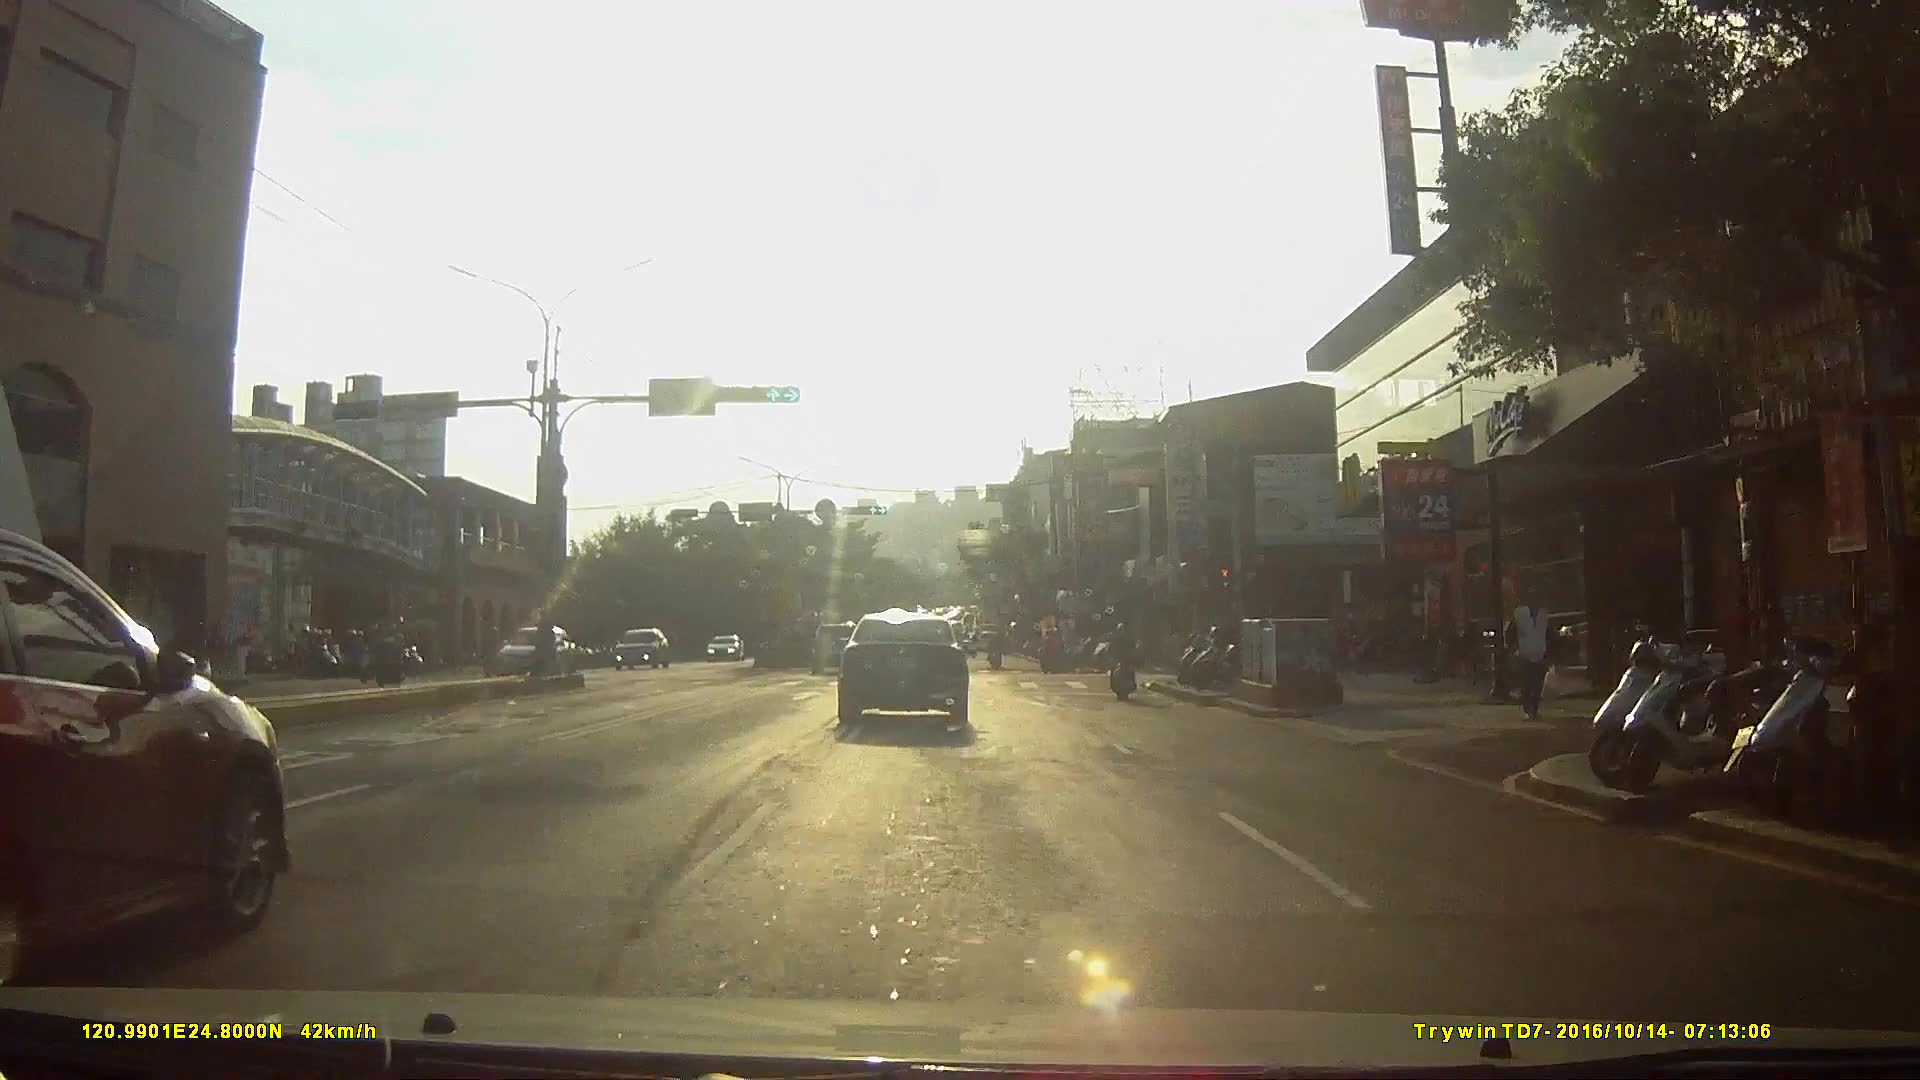pedestrian: (1501, 591, 1554, 729)
rider: (158, 625, 212, 699), (365, 617, 414, 695), (1107, 619, 1141, 703), (341, 630, 385, 683), (1038, 629, 1067, 677), (986, 636, 1006, 676)
vehicle: (1, 534, 297, 990), (835, 609, 986, 735), (484, 622, 580, 682), (810, 621, 869, 676), (615, 629, 673, 674), (703, 635, 748, 667)
